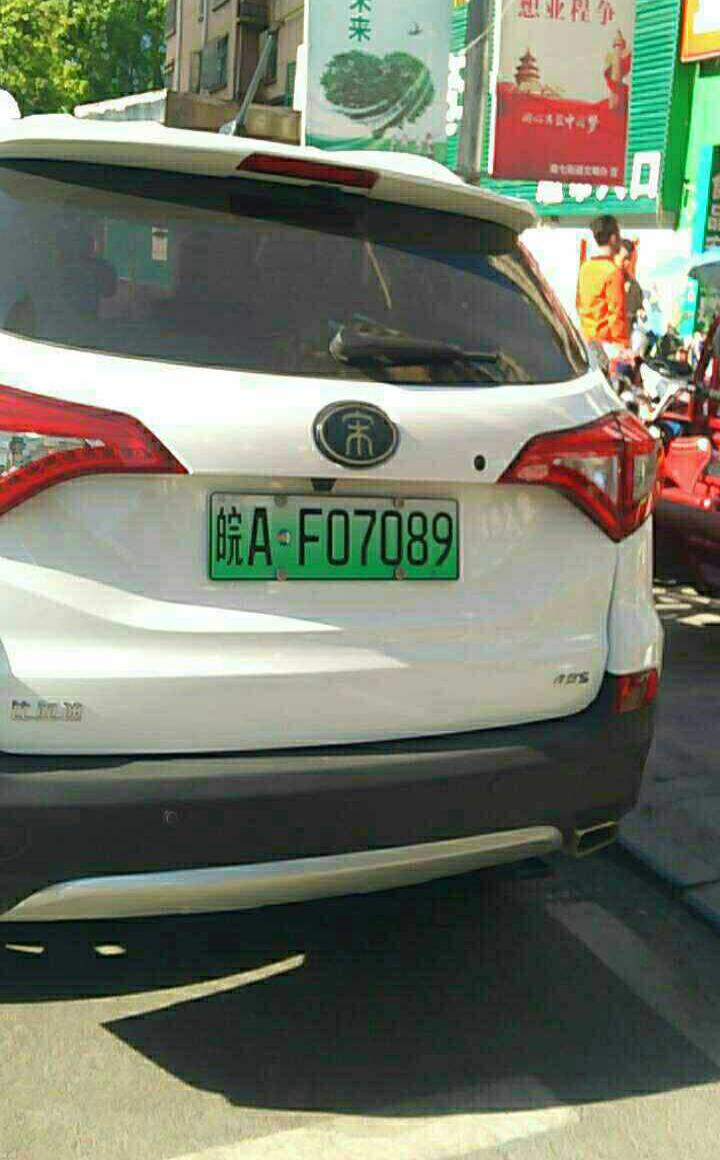car: (188, 489, 480, 593)
